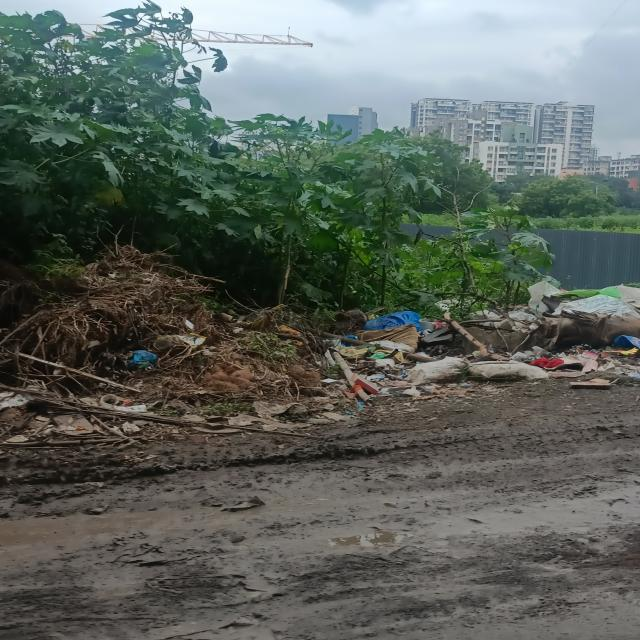garbage: (0, 266, 357, 432), (355, 287, 640, 399)
